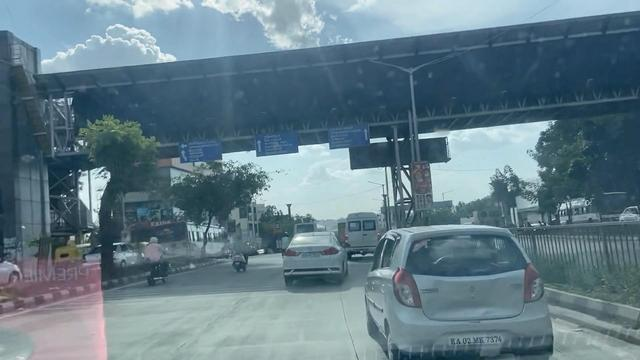LMV: (388, 230, 538, 349), (282, 234, 347, 280), (148, 234, 169, 291), (231, 232, 249, 268)
